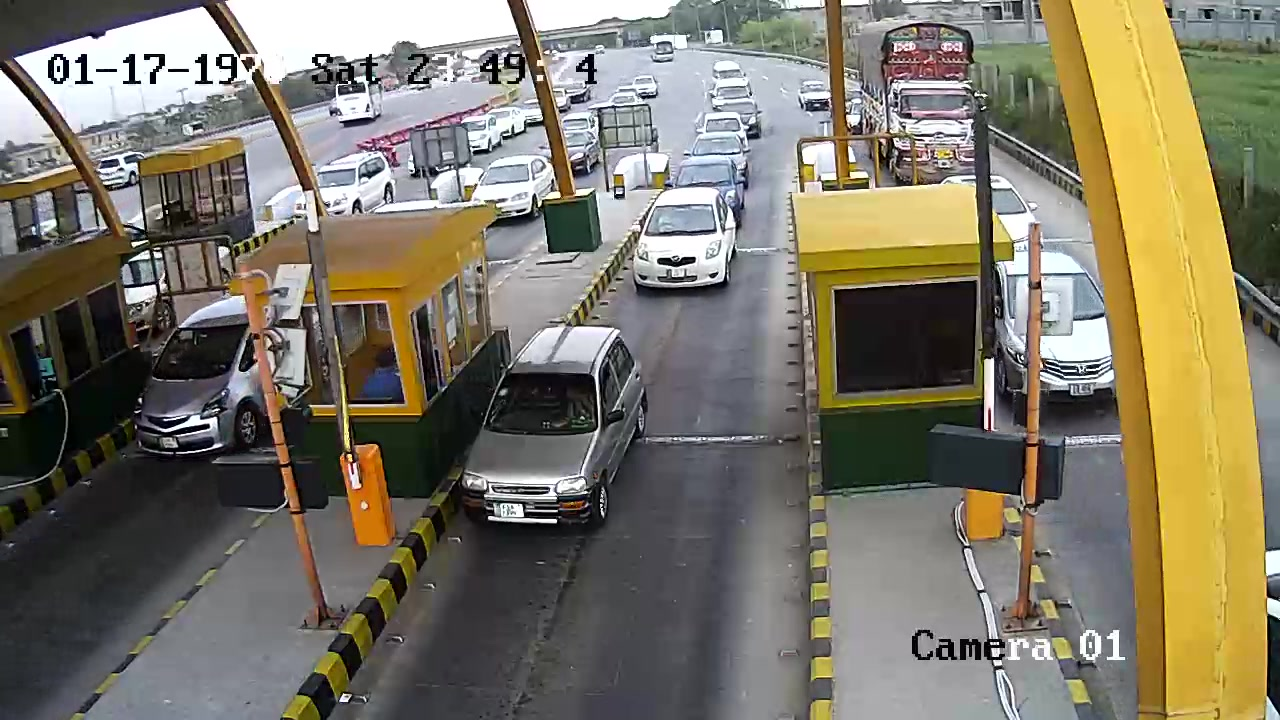F1: (451, 321, 652, 534), (628, 189, 739, 296)
